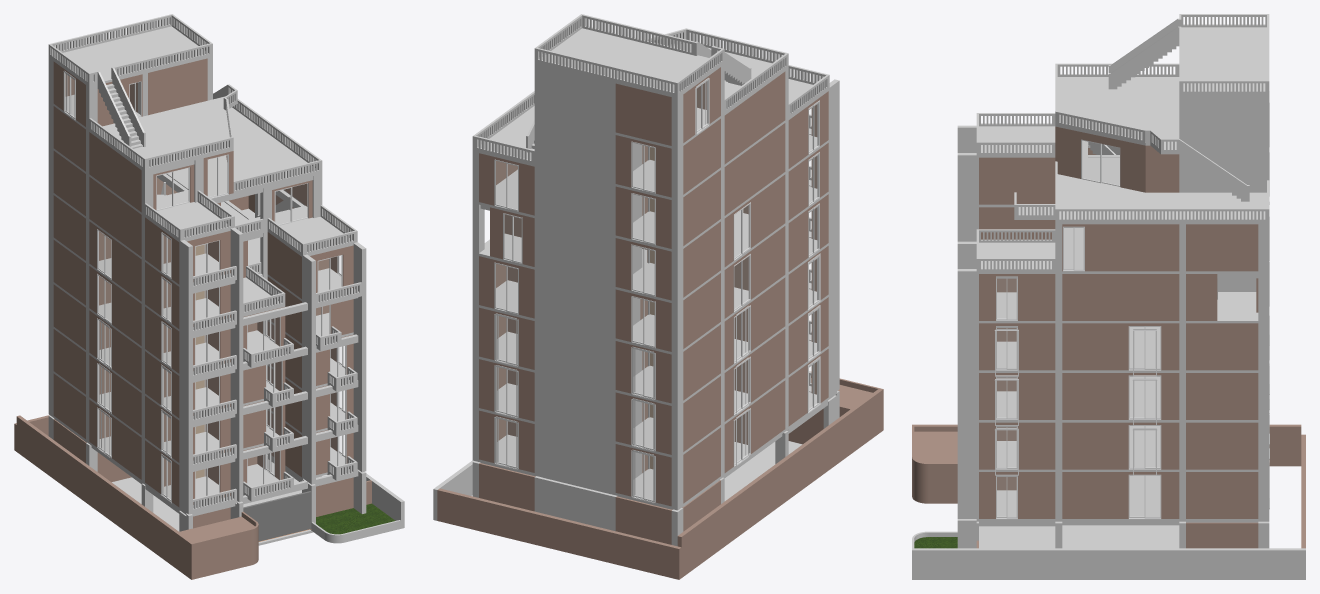
3 renders of one model, left to right at view 1: azimuth 30°, elevation 25°; view 2: azimuth 150°, elevation 25°; view 3: azimuth 270°, elevation 25°, orthographic. The views are drawn at different scales.
Visible parts, largest first — view 1: Geom3D (×102), Geom3D_; view 2: Geom3D (×99); view 3: Geom3D (×82), Geom3D_.
Boxes of the visible parts, x1,y1,x2,y2 form: Geom3D (×102): (16, 14, 404, 579); Geom3D_: (179, 516, 254, 542); Geom3D (×99): (433, 14, 883, 579); Geom3D (×82): (912, 14, 1305, 579); Geom3D_: (914, 431, 957, 462).
Size of the model in its own units: 15.24 by 28.45 by 21.95.
Materials: 9 (1 with a texture image).
